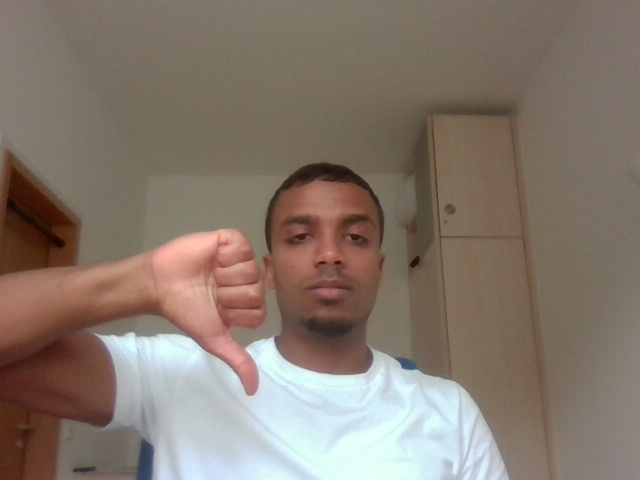no: (139, 197, 273, 413)
